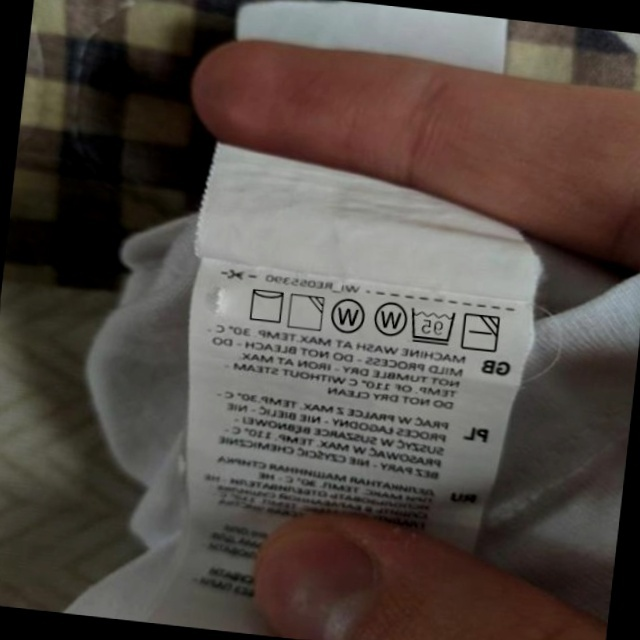95C: (406, 304, 458, 347)
dry_flat_in_shade: (459, 309, 503, 355)
line_dry: (244, 284, 287, 326)
shade_dry: (285, 290, 327, 333)
wet_clean: (327, 295, 368, 338), (369, 296, 409, 340)
